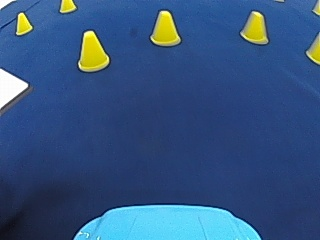cone: (76, 28, 109, 72), (149, 9, 181, 46), (240, 10, 269, 44), (305, 31, 319, 64), (14, 11, 32, 34), (59, 0, 75, 13)
